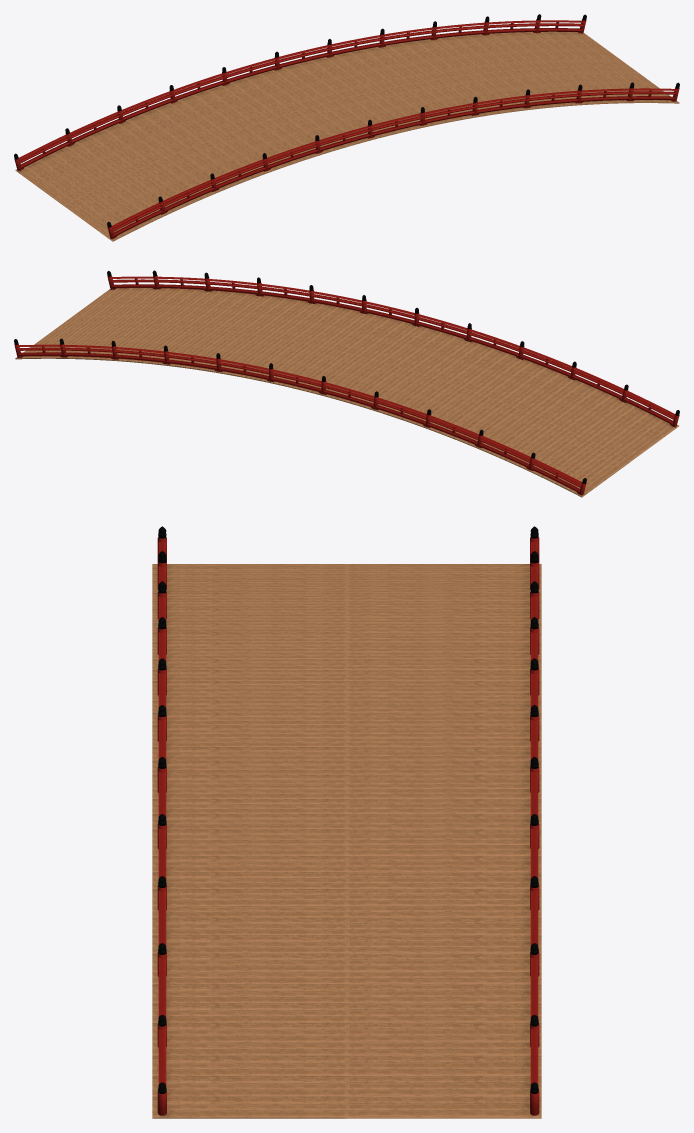
Rendered from SUPERNUEVOPUENTEBIEEEEEEEEEN.fbx.
3 renders of one model, top to bottom at view 1: azimuth 30°, elevation 25°; view 2: azimuth 150°, elevation 25°; view 3: azimuth 270°, elevation 25°, orthographic. The views are drawn at different scales.
Visible parts, largest first — view 1: Puente; view 2: Puente; view 3: Puente.
Part boxes in pixels (x1=…): Puente: x1=14, y1=14, x2=679, y2=241; Puente: x1=14, y1=270, x2=679, y2=497; Puente: x1=152, y1=526, x2=541, y2=1118.
Size of the model in its own units: 3854 by 368 by 1134.
